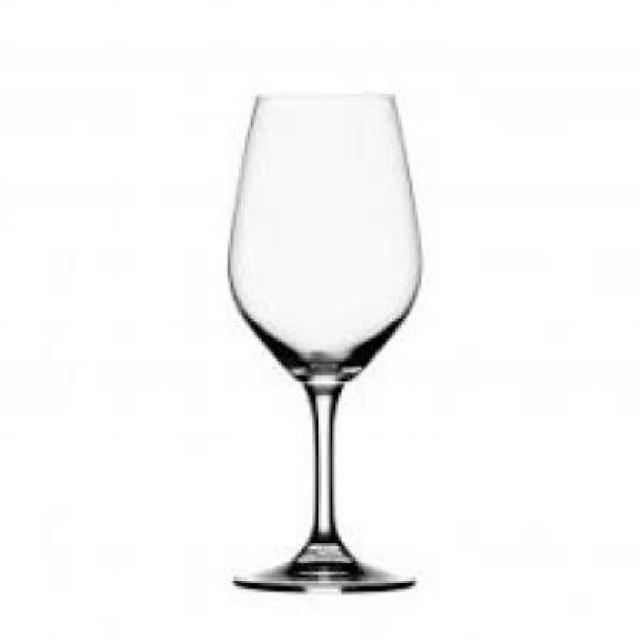kaca: (224, 91, 418, 586)
